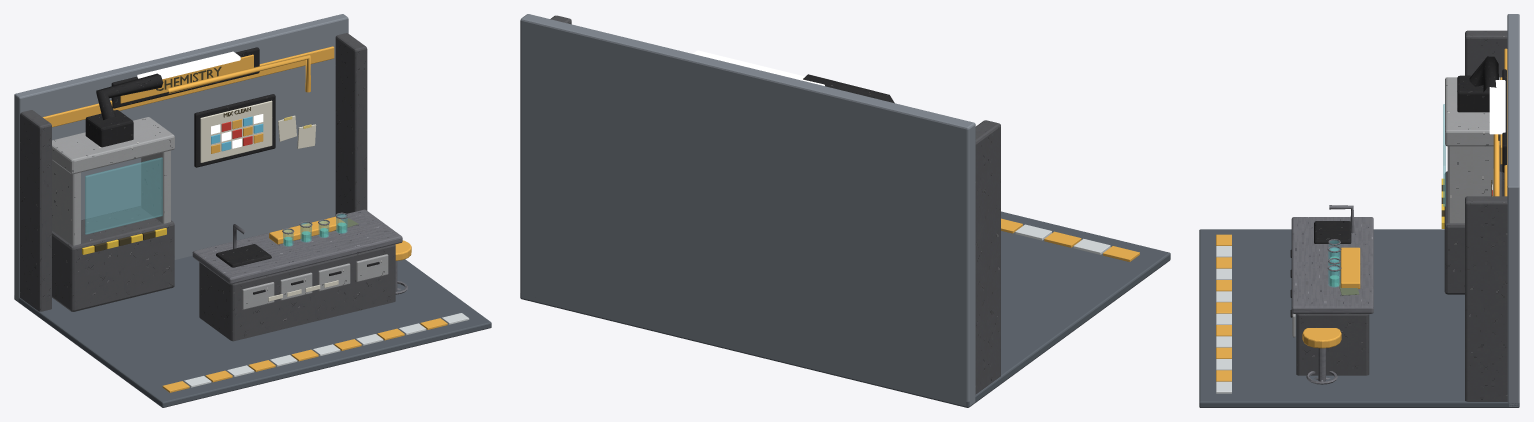
Rendered from department_chemistry_starter.glb.
The picture shows the model from 3 angles, left to right: view 1: azimuth 30°, elevation 25°; view 2: azimuth 150°, elevation 25°; view 3: azimuth 270°, elevation 25°; orthographic projection. The views are drawn at different scales.
Parts seen in each view (by area): view 1: DEPT_Chemistry__Back_Wall, DEPT_Chemistry__Floor, DEPT_Chemistry__Fume_Hood_Base, DEPT_Chemistry__Island_Body, DEPT_Chemistry__Left_Pilaster, DEPT_Chemistry__Right_Pilaster, DEPT_Chemistry__Island_Worktop, DEPT_Chemistry__Fume_Hood_Glass, DEPT_Chemistry__Fume_Hood_Top, DEPT_Chemistry__Safety_Chart_Paper, DEPT_Chemistry__Back_Wall_Accent, DEPT_Chemistry__Fume_Hood_Post_Left (+14 smaller); view 2: DEPT_Chemistry__Back_Wall, DEPT_Chemistry__Floor, DEPT_Chemistry__Left_Pilaster, DEPT_Chemistry__Fume_Exhaust_Duct, DEPT_Chemistry__Ceiling_Light; view 3: DEPT_Chemistry__Floor, DEPT_Chemistry__Right_Pilaster, DEPT_Chemistry__Island_Worktop, DEPT_Chemistry__Back_Wall, DEPT_Chemistry__Island_Body, DEPT_Chemistry__Fume_Hood_Post_Right, DEPT_Chemistry__Fume_Hood_Top, DEPT_Chemistry__Fume_Hood_Base, DEPT_Chemistry__Left_Pilaster, DEPT_Chemistry__Fume_Hood_Extractor, DEPT_Chemistry__Ceiling_Light, DEPT_Chemistry__Bottle_Rack (+6 smaller).
Part boxes in pixels (<box>): DEPT_Chemistry__Back_Wall: <box>14,14,348,301</box>; DEPT_Chemistry__Floor: <box>14,256,491,407</box>; DEPT_Chemistry__Fume_Hood_Base: <box>52,206,174,311</box>; DEPT_Chemistry__Island_Body: <box>199,244,395,341</box>; DEPT_Chemistry__Left_Pilaster: <box>20,110,51,311</box>; DEPT_Chemistry__Right_Pilaster: <box>335,33,367,215</box>; DEPT_Chemistry__Island_Worktop: <box>192,209,402,284</box>; DEPT_Chemistry__Fume_Hood_Glass: <box>85,157,162,234</box>; DEPT_Chemistry__Fume_Hood_Top: <box>52,117,174,174</box>; DEPT_Chemistry__Safety_Chart_Paper: <box>200,100,272,162</box>; DEPT_Chemistry__Back_Wall_Accent: <box>42,46,334,127</box>; DEPT_Chemistry__Fume_Hood_Post_Left: <box>52,160,80,245</box>; DEPT_Chemistry__Back_Wall: <box>520,14,975,406</box>; DEPT_Chemistry__Floor: <box>520,211,1170,407</box>; DEPT_Chemistry__Left_Pilaster: <box>975,120,1000,394</box>; DEPT_Chemistry__Fume_Exhaust_Duct: <box>803,74,894,103</box>; DEPT_Chemistry__Ceiling_Light: <box>693,50,824,85</box>; DEPT_Chemistry__Floor: <box>1199,229,1519,407</box>; DEPT_Chemistry__Right_Pilaster: <box>1465,196,1507,401</box>; DEPT_Chemistry__Island_Worktop: <box>1291,217,1373,313</box>; DEPT_Chemistry__Back_Wall: <box>1507,14,1519,406</box>; DEPT_Chemistry__Island_Body: <box>1296,314,1369,375</box>; DEPT_Chemistry__Fume_Hood_Post_Right: <box>1447,146,1493,223</box>; DEPT_Chemistry__Fume_Hood_Top: <box>1445,77,1500,146</box>; DEPT_Chemistry__Fume_Hood_Base: <box>1444,171,1502,294</box>; DEPT_Chemistry__Left_Pilaster: <box>1465,30,1507,196</box>; DEPT_Chemistry__Fume_Hood_Extractor: <box>1457,75,1489,112</box>; DEPT_Chemistry__Ceiling_Light: <box>1489,80,1505,134</box>; DEPT_Chemistry__Bottle_Rack: <box>1340,247,1360,288</box>.
Bounding box in the file's own units: 4.6 × 2.75 × 3.6.
19 materials, 4 textured.
